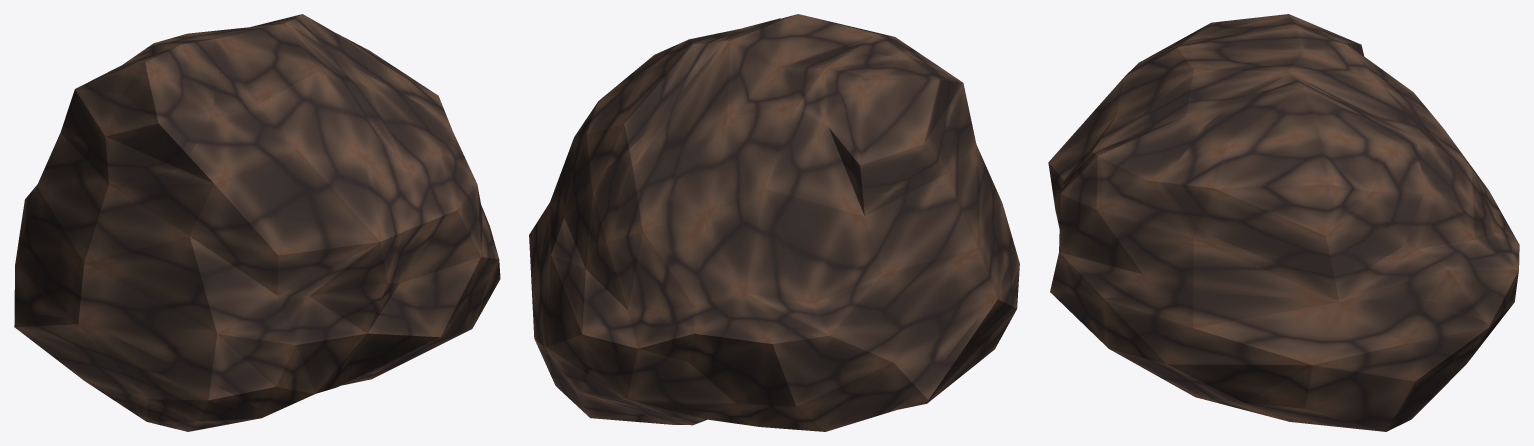
Rendered from truffle2.fbx.
3 renders of one model, left to right at view 1: azimuth 30°, elevation 25°; view 2: azimuth 150°, elevation 25°; view 3: azimuth 270°, elevation 25°, orthographic. The views are drawn at different scales.
Visible parts, largest first — view 1: Truffle2; view 2: Truffle2; view 3: Truffle2.
Part boxes in pixels (x1,y1,x2,y2): Truffle2: (14,14,500,431); Truffle2: (529,14,1019,431); Truffle2: (1048,14,1519,431).
Bounding box in the file's own units: 16.66 × 13.14 × 17.5.
